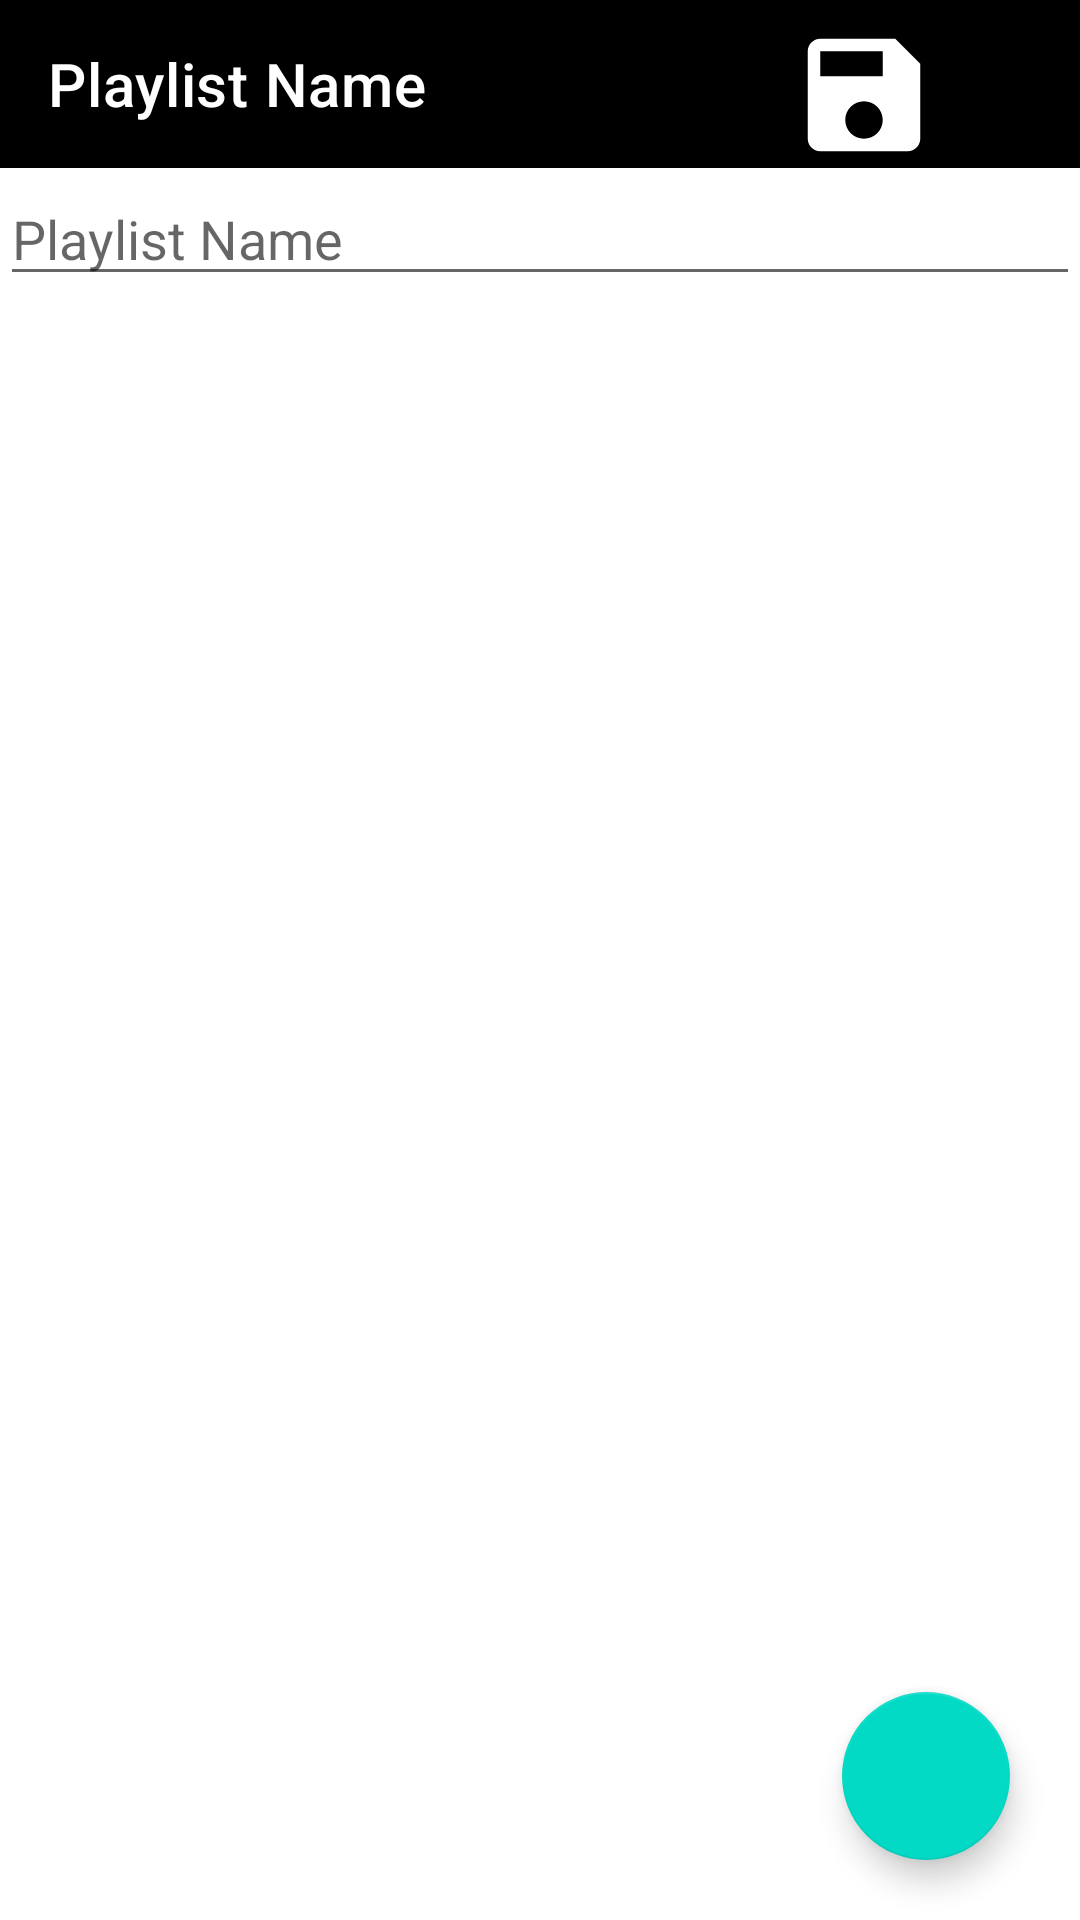

Icons on this 1080x1920 Android screen, each with the point to tap as (x,y):
save: (864,95)
